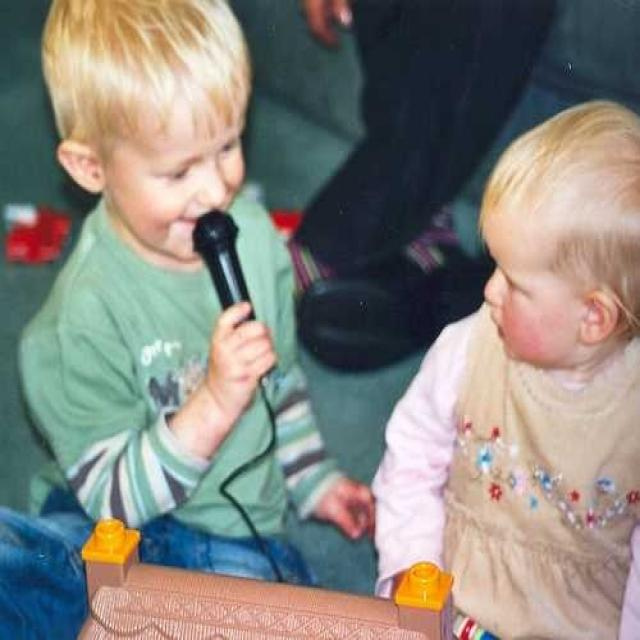microphone: (190, 206, 272, 391)
